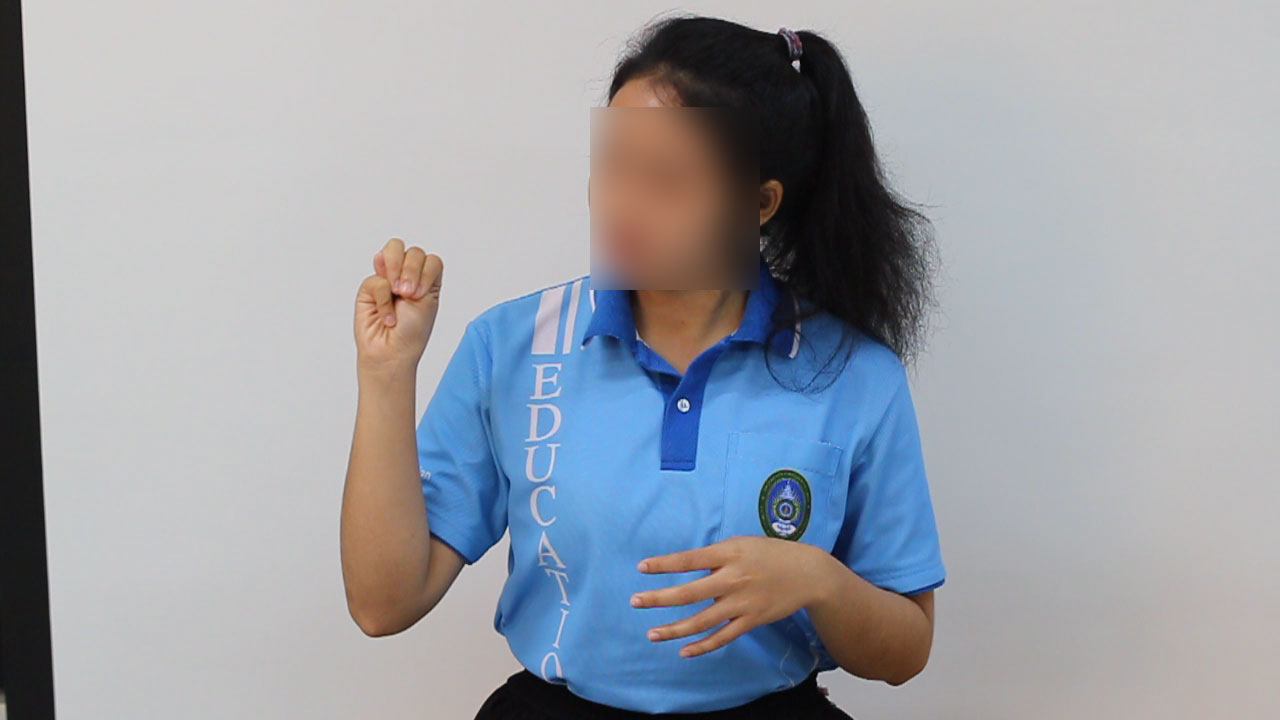mor: (345, 221, 449, 387)
